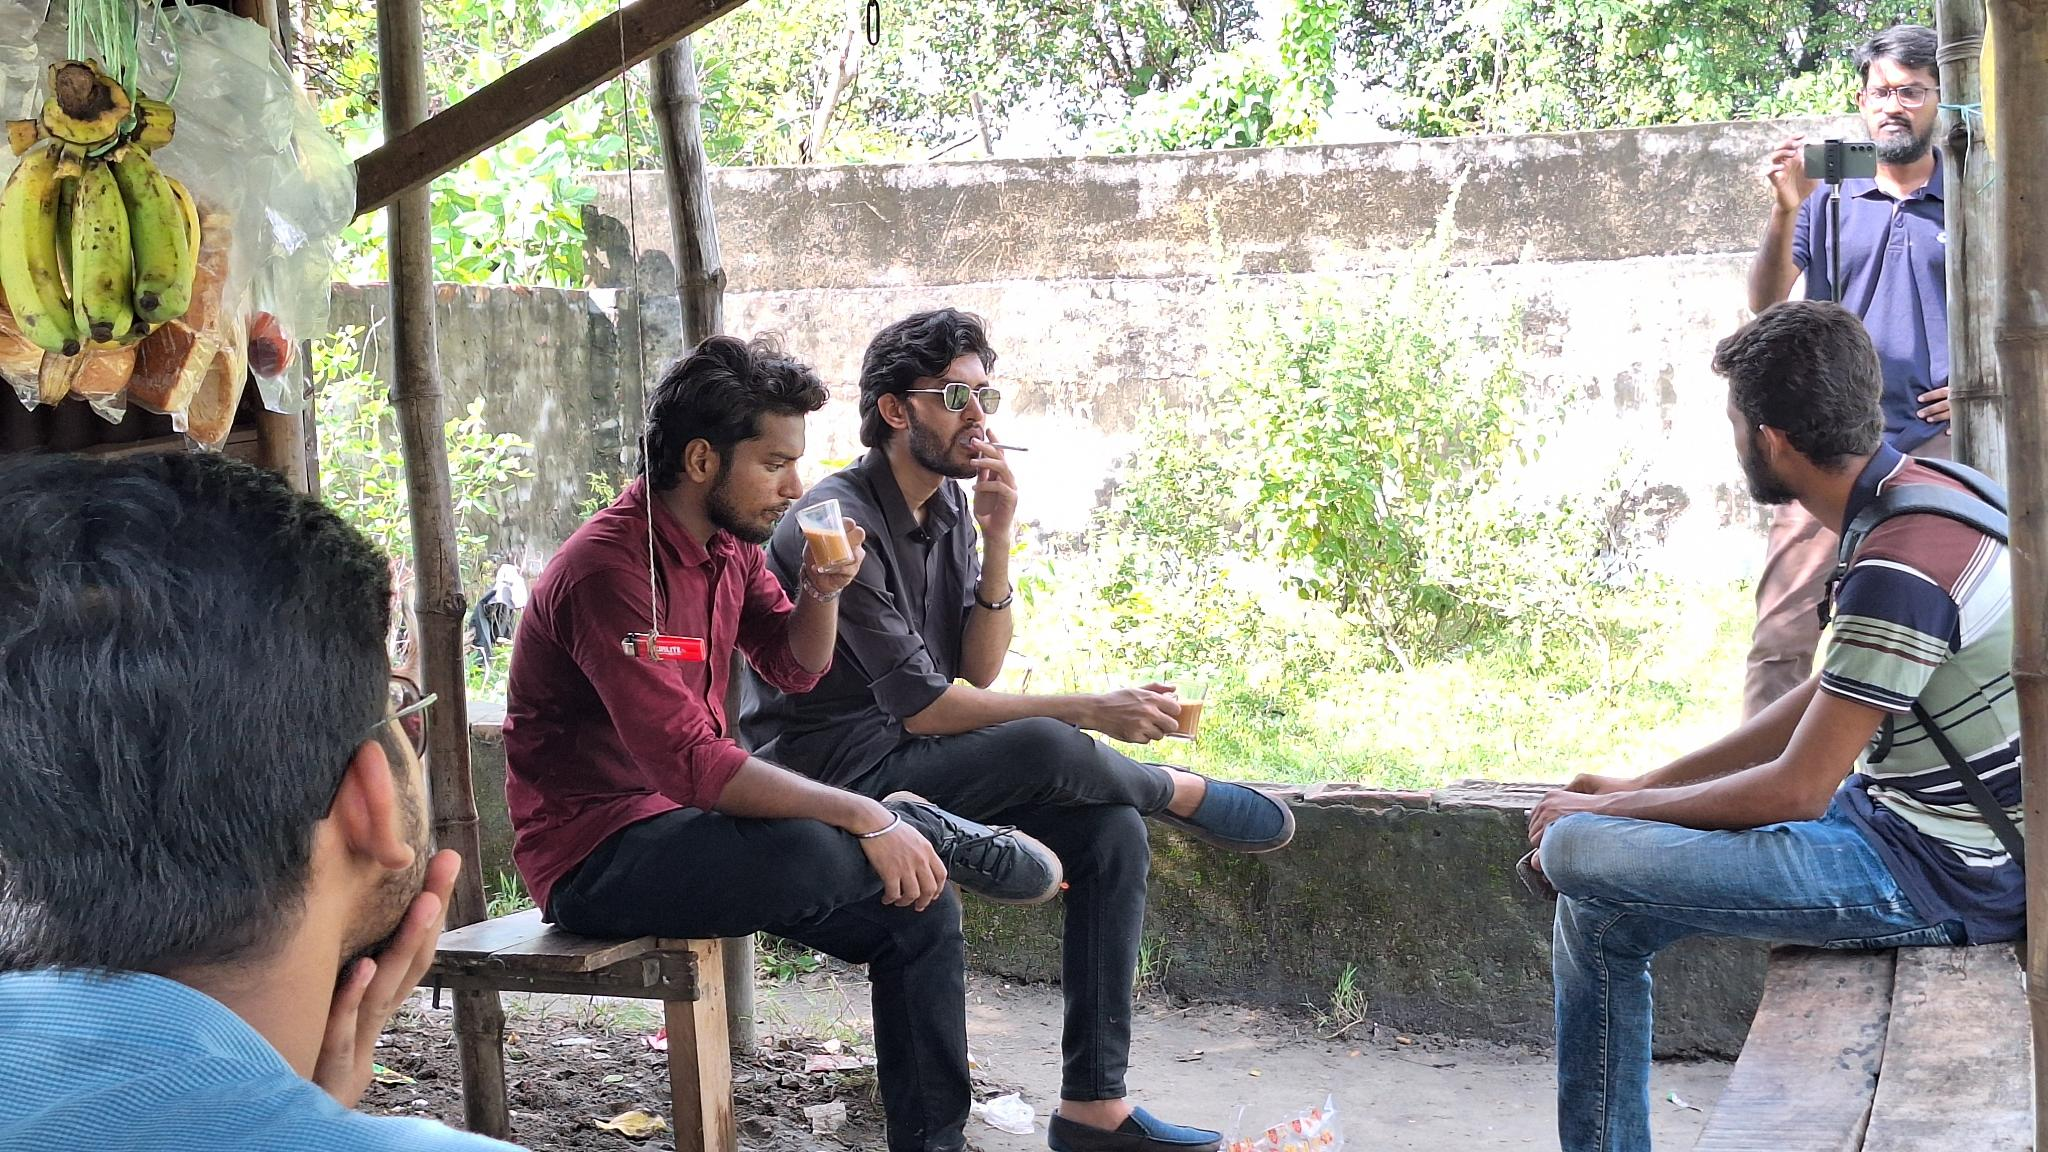cigarette: (978, 437, 1031, 457)
nonSmoker: (501, 342, 1068, 1152), (1513, 295, 2021, 1152), (0, 440, 556, 1152), (1751, 21, 1957, 464)
smoker: (800, 314, 1298, 1152)
